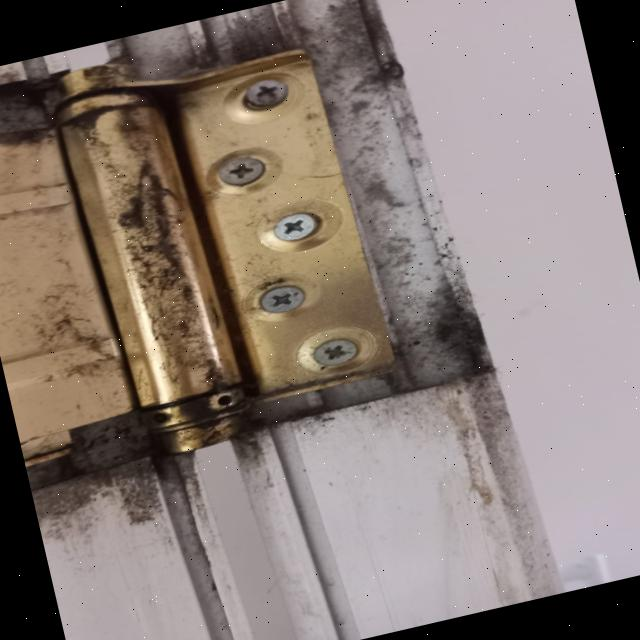Phillips: (294, 322, 384, 381), (208, 147, 287, 201), (228, 68, 302, 121), (239, 276, 320, 324), (268, 200, 332, 250)
